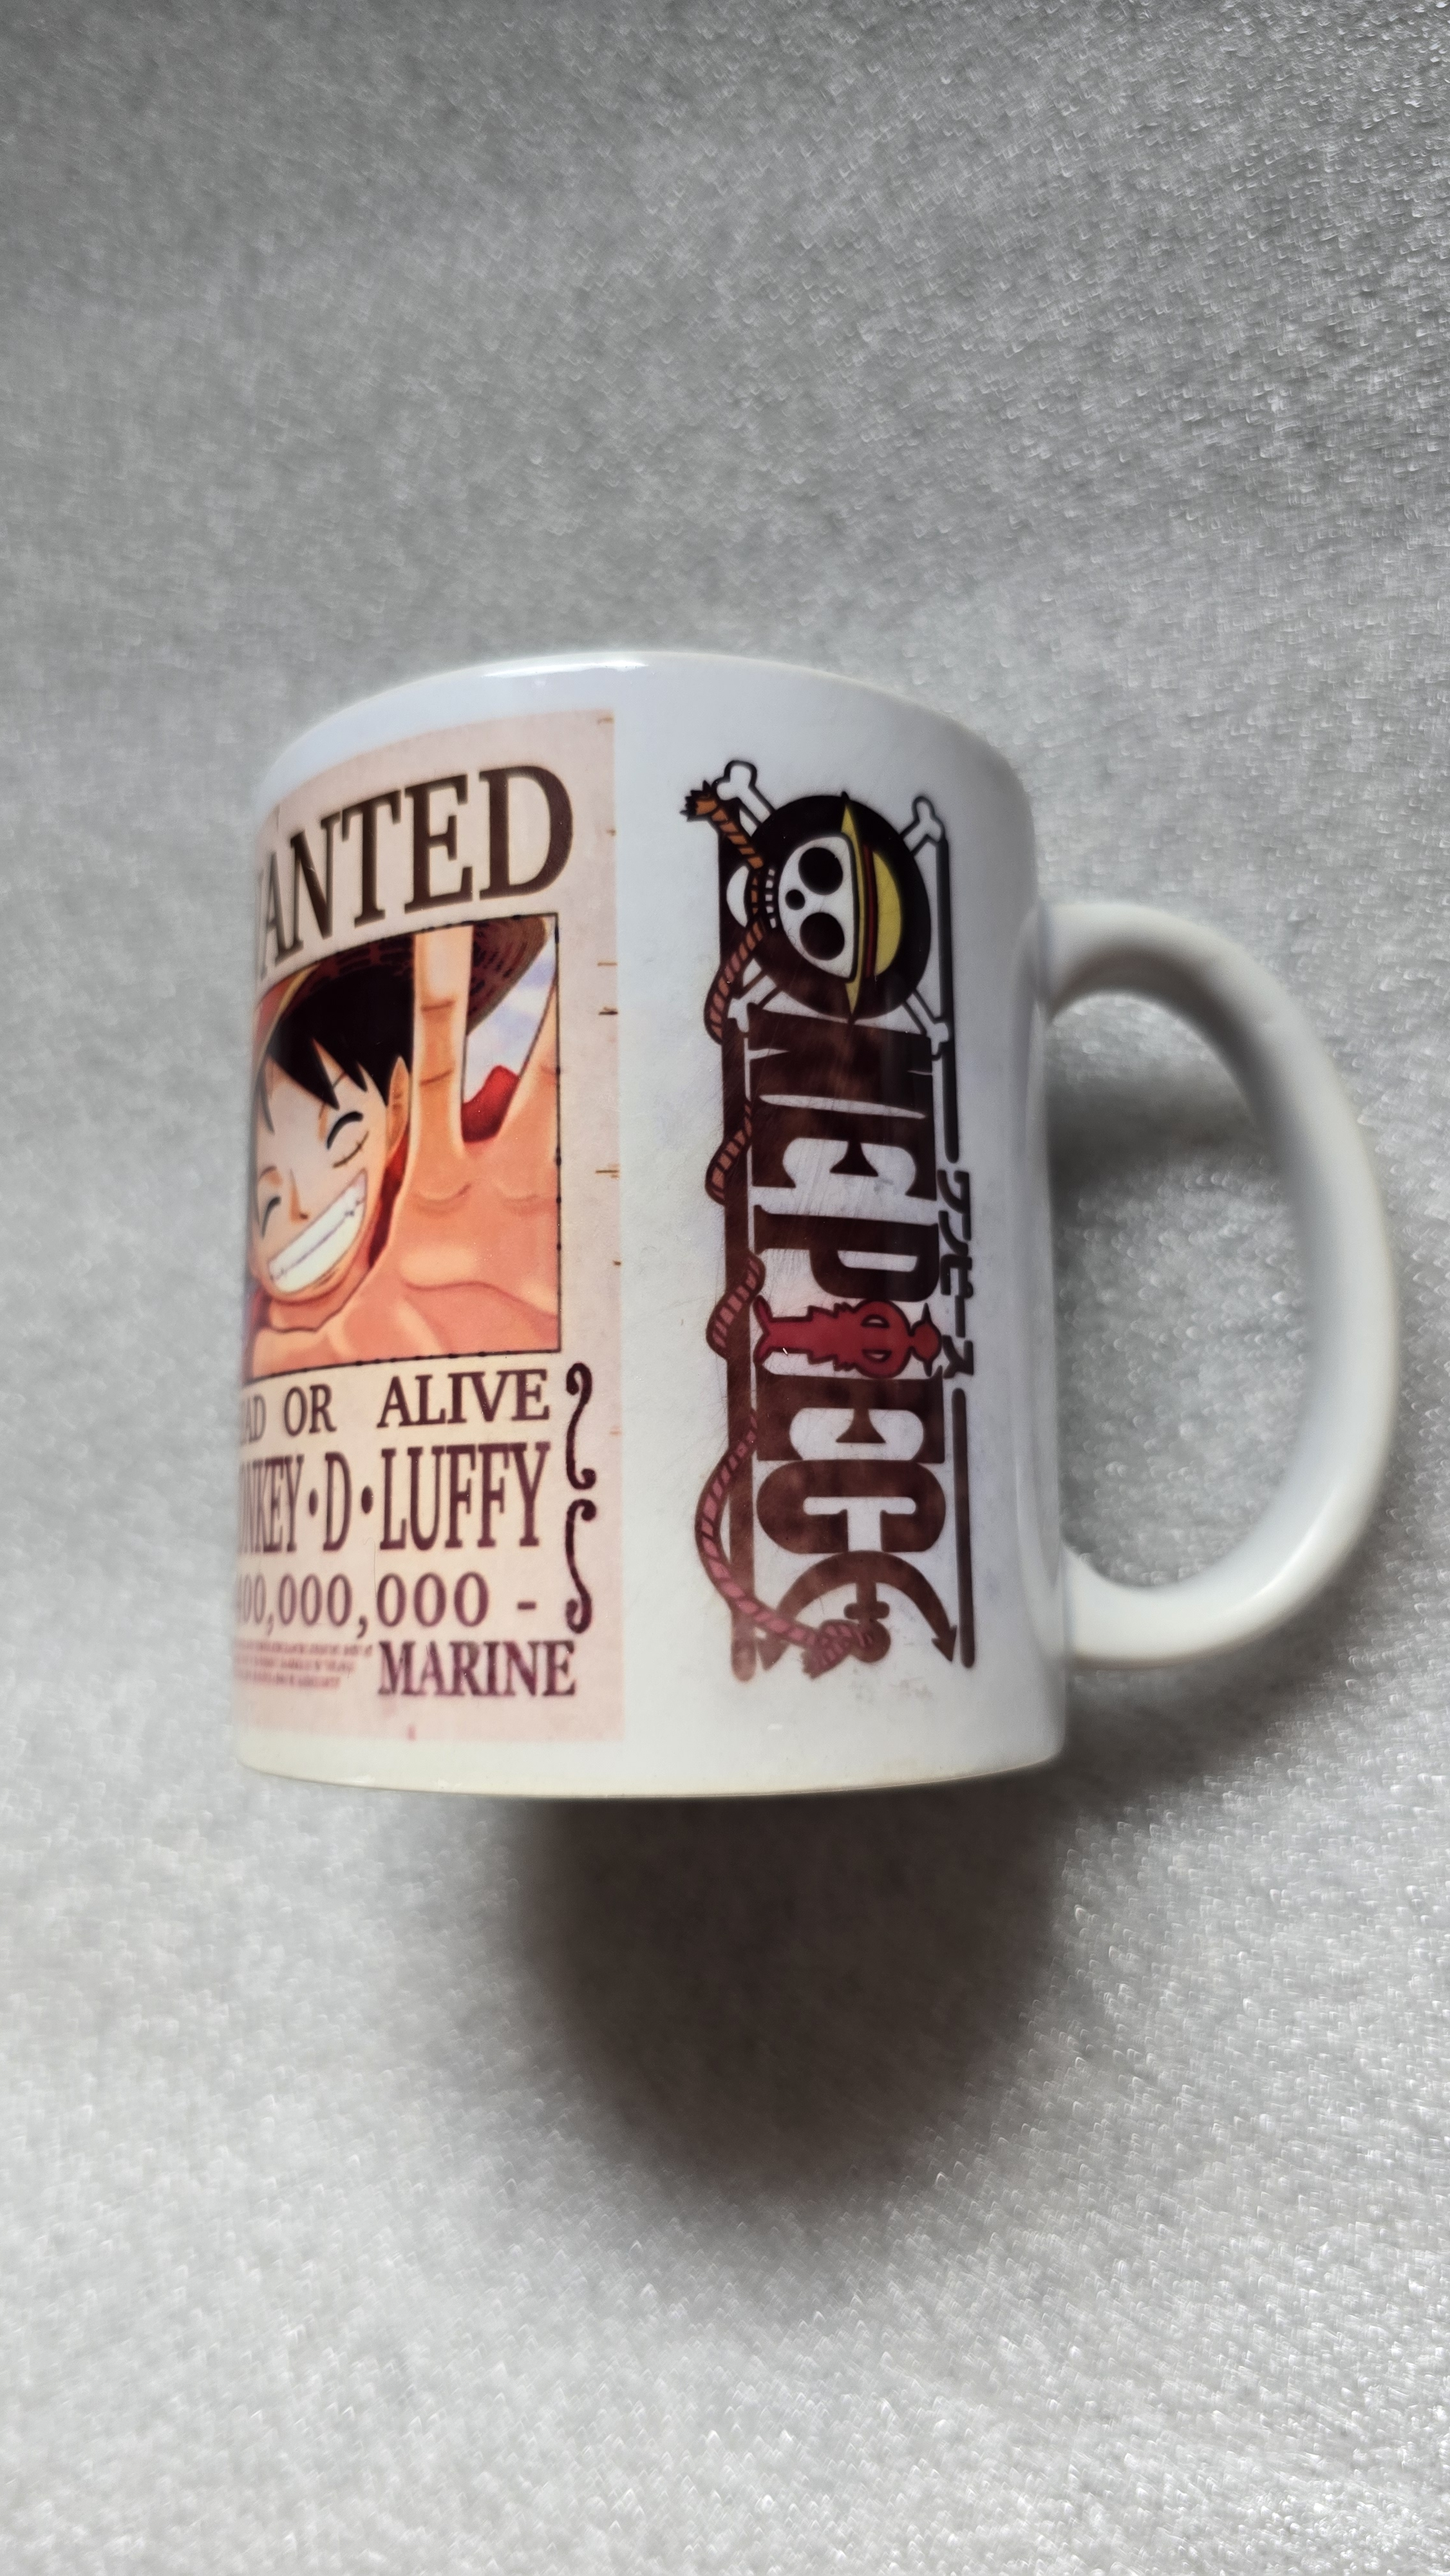mug: (193, 593, 1415, 1870)
